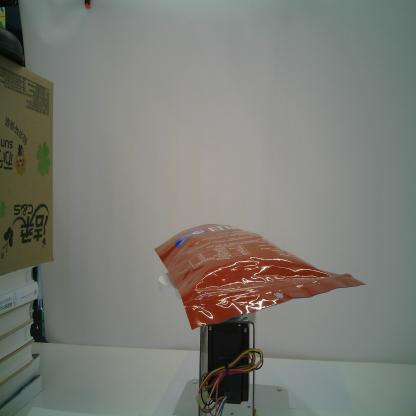Dried Food: (154, 224, 367, 330)
